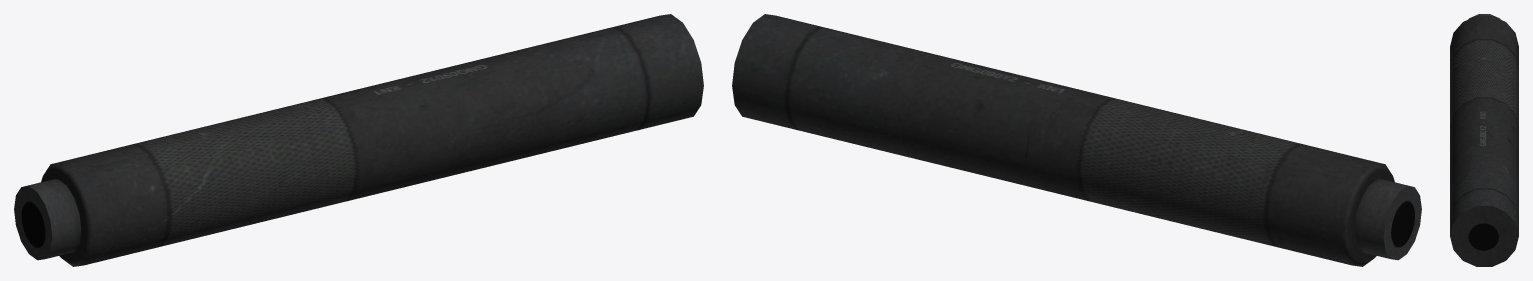
The model's file is t6_attach_smg_silencer2_view_LOD0.obj.
3 views of the same model, side by side, from view 1: azimuth 30°, elevation 25°; view 2: azimuth 150°, elevation 25°; view 3: azimuth 270°, elevation 25° (orthographic). The views are drawn at different scales.
Parts seen in each view (by area): view 1: mtl_t6_attach_smg_silencer1; view 2: mtl_t6_attach_smg_silencer1; view 3: mtl_t6_attach_smg_silencer1.
Part boxes in pixels (x1,y1,x2,y2): mtl_t6_attach_smg_silencer1: [14, 14, 703, 266]; mtl_t6_attach_smg_silencer1: [732, 14, 1421, 266]; mtl_t6_attach_smg_silencer1: [1450, 14, 1518, 266].
Bounding box in the file's own units: 30.78 × 4.36 × 4.46.
